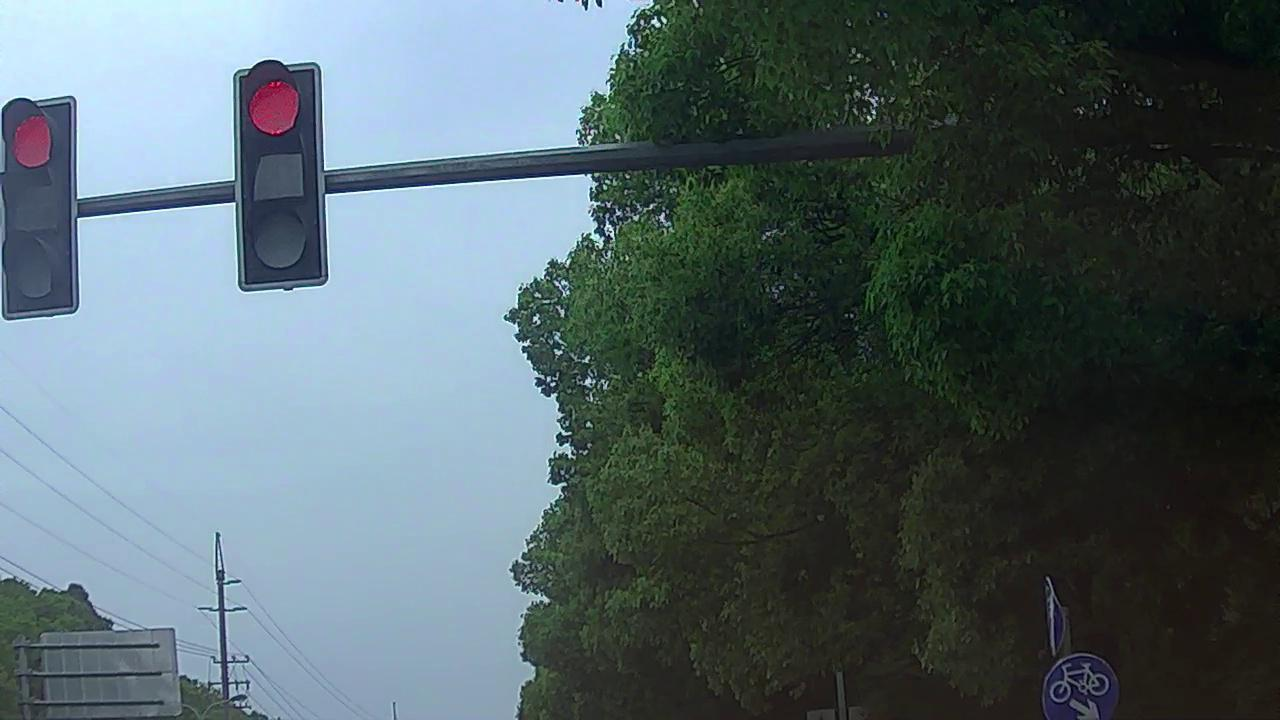traffic_light: (240, 72, 318, 279), (238, 70, 316, 277), (8, 99, 75, 313)
